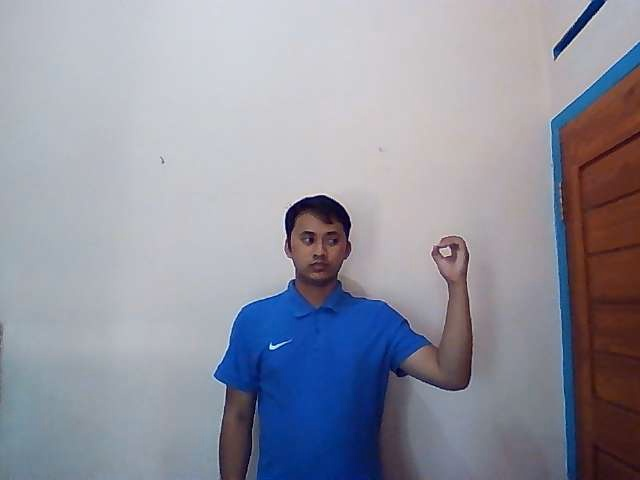O: (430, 234, 471, 282)
